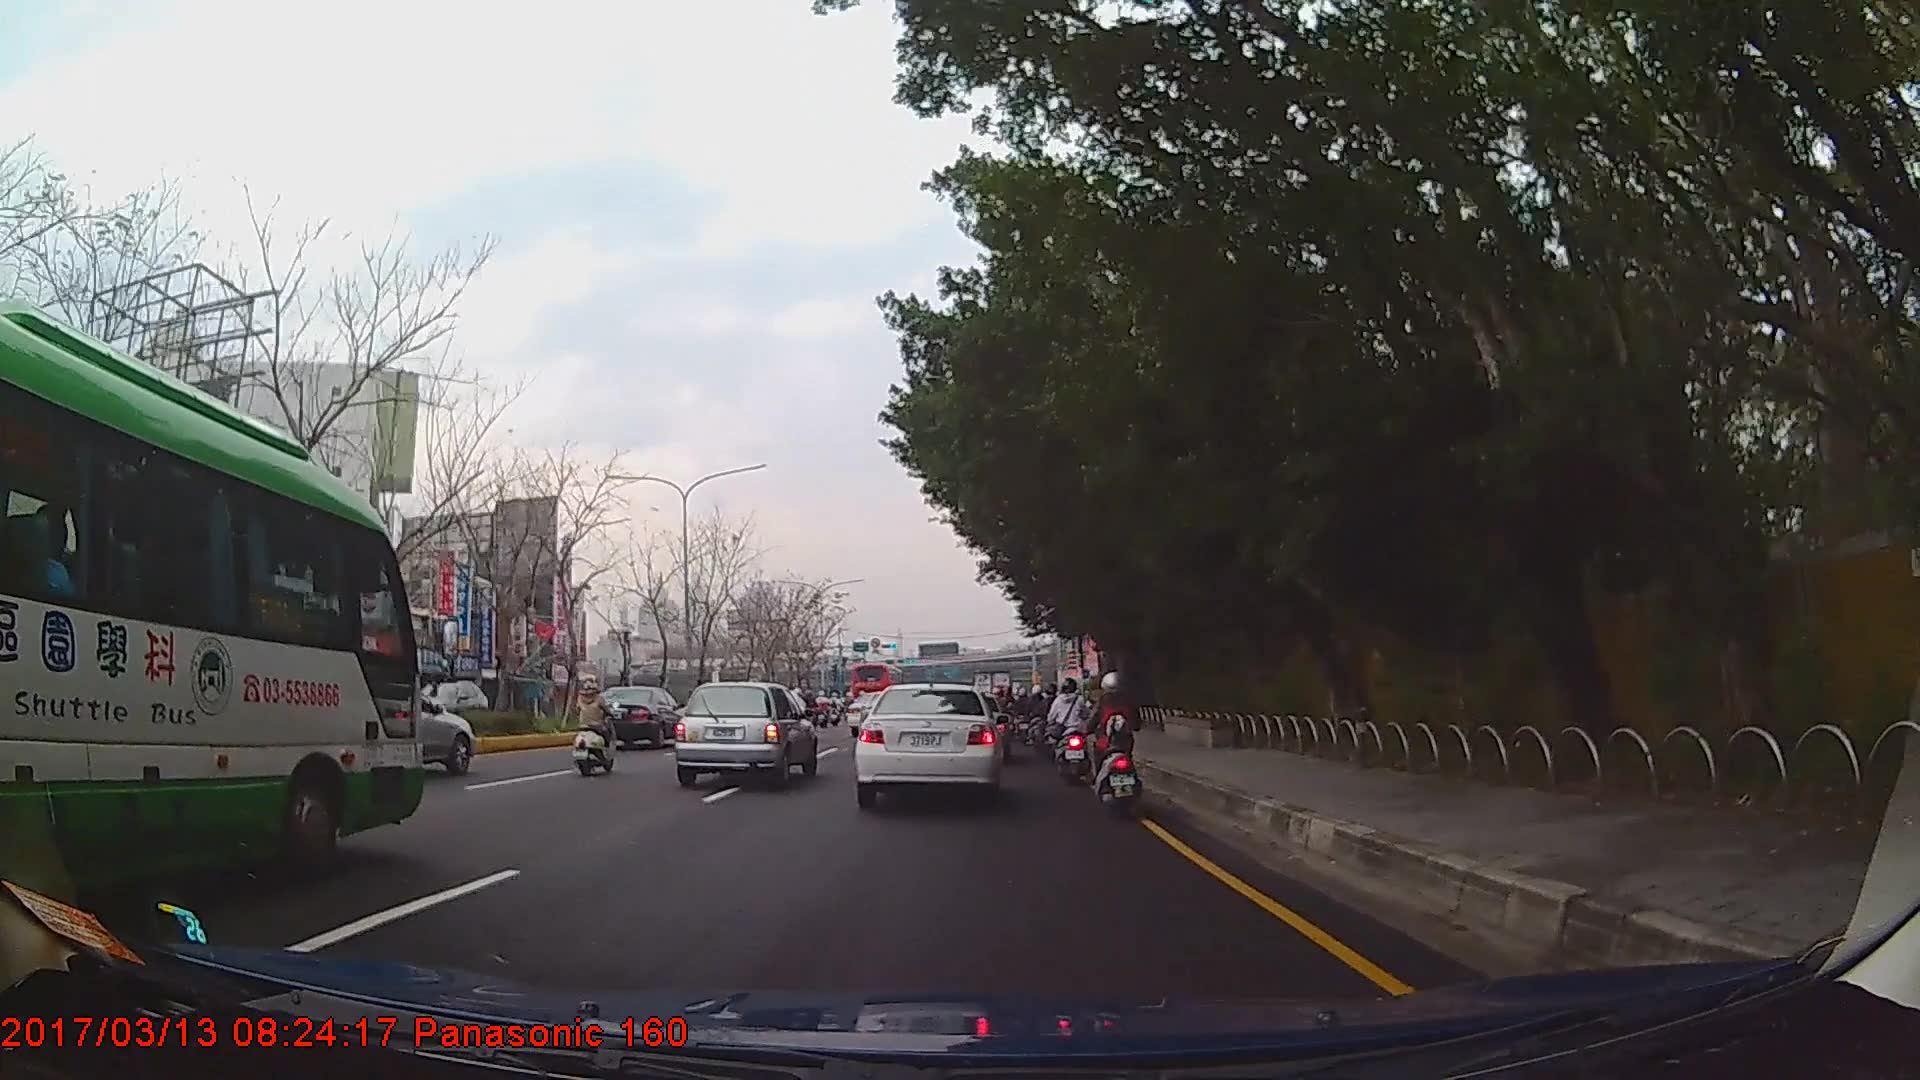rider: (1085, 667, 1148, 818), (1051, 676, 1094, 784), (575, 676, 617, 777), (1041, 682, 1064, 751)
vehicle: (0, 298, 425, 909), (851, 683, 1004, 807), (673, 679, 818, 788), (580, 683, 692, 749), (399, 677, 489, 735), (848, 659, 901, 710)
